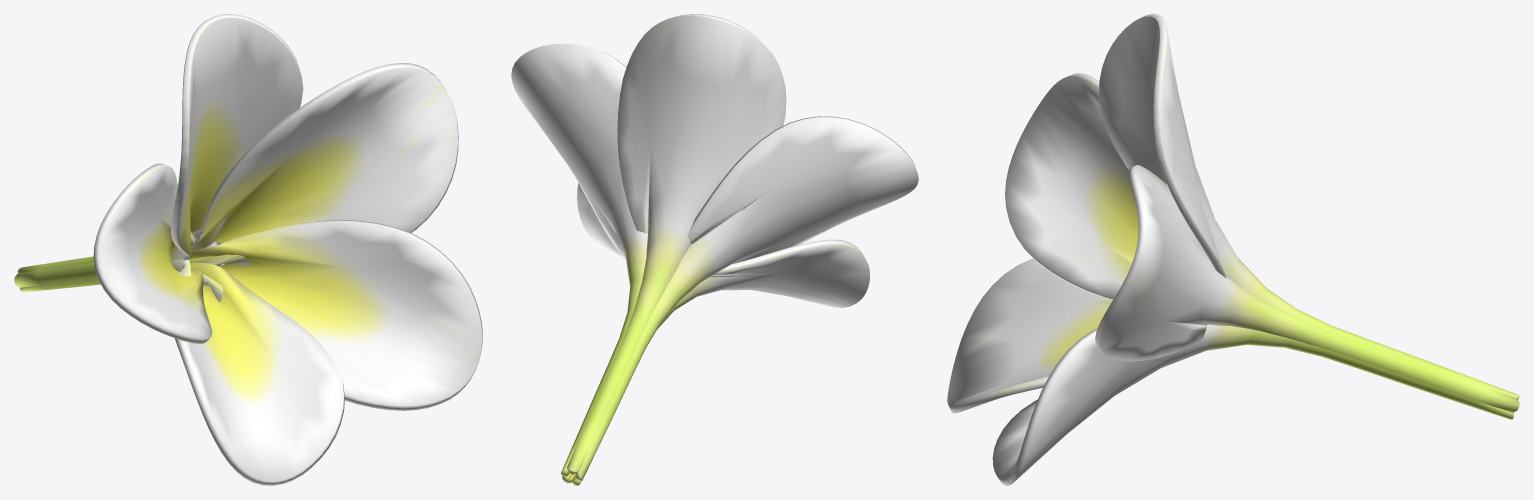
3 views of the same model, side by side, from view 1: azimuth 30°, elevation 25°; view 2: azimuth 150°, elevation 25°; view 3: azimuth 270°, elevation 25° (orthographic). The views are drawn at different scales.
Visible parts, largest first — view 1: 3ac90668; view 2: 3ac90668; view 3: 3ac90668.
Boxes of the visible parts, <box> form: 3ac90668: <box>14,14,482,485</box>; 3ac90668: <box>511,14,918,485</box>; 3ac90668: <box>947,14,1519,485</box>.
Size of the model in its own units: 0.0584 by 0.0542 by 0.0687.
1 material, 1 textured.
